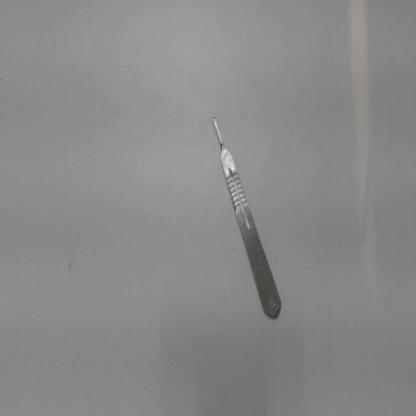No.3 BP Handle: (197, 105, 294, 331)
